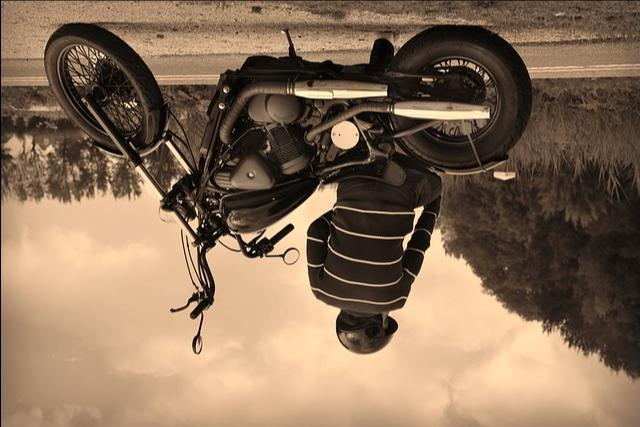Non_Gorille: (50, 16, 568, 424)
